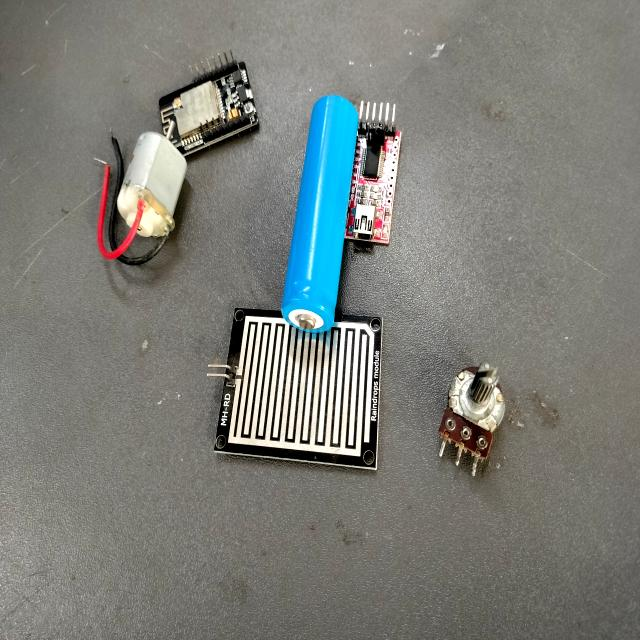3-3-Volt-Battery: (279, 90, 363, 346)
DC-Motor: (116, 112, 194, 251)
ESP32-CAM: (149, 52, 276, 163)
FT-232-USB-Serial-Module: (338, 89, 406, 256)
Raindrops-Module: (200, 297, 394, 475)
Taper-Potentiometer: (433, 353, 510, 484)
